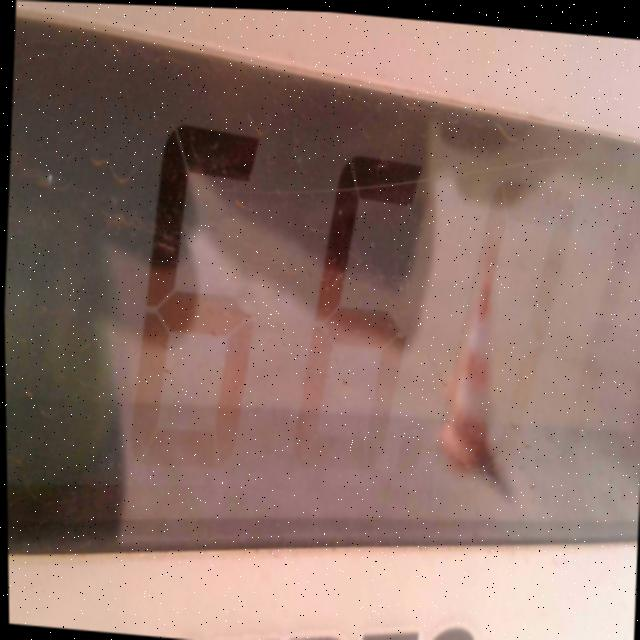.: (392, 400, 440, 511)
6: (128, 112, 288, 498), (287, 138, 429, 499)
